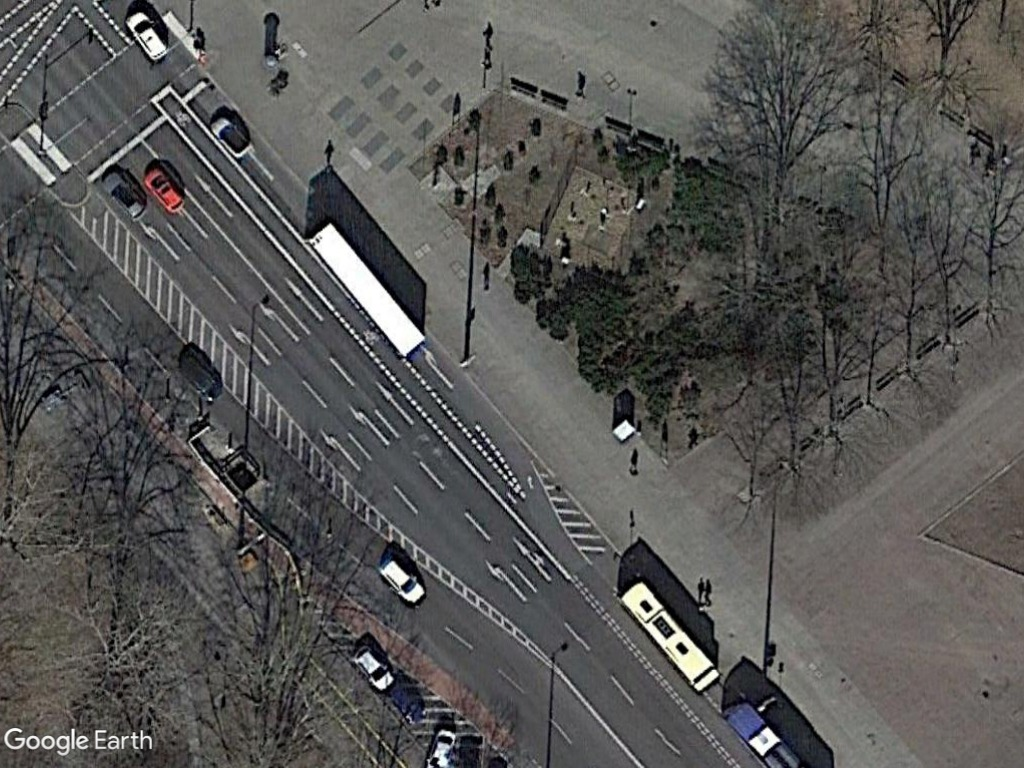bus: (612, 573, 724, 696)
car: (372, 552, 430, 609), (120, 4, 174, 63), (137, 162, 192, 216), (97, 171, 153, 222), (206, 112, 257, 164), (348, 640, 398, 691)
longvehicle: (304, 218, 432, 361)
